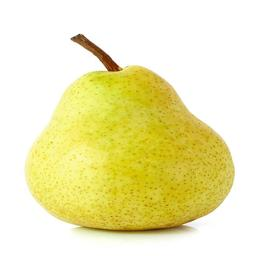Pear Fresh: (27, 10, 240, 246)
